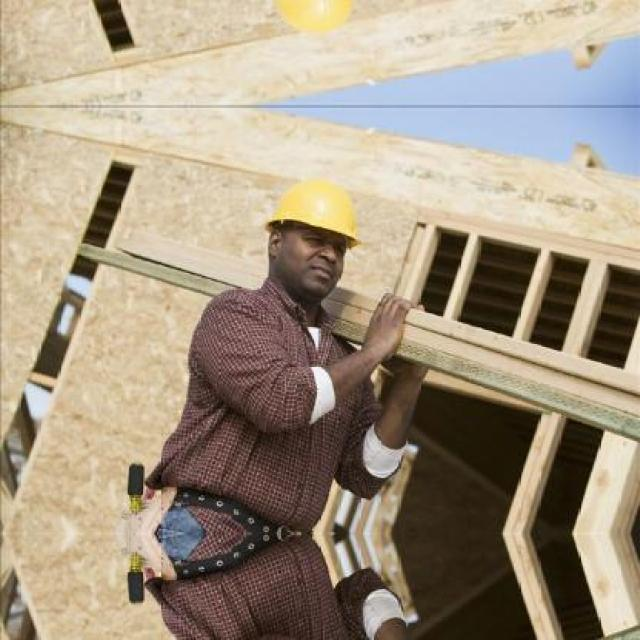helmet: (252, 166, 373, 298), (251, 0, 374, 48)
